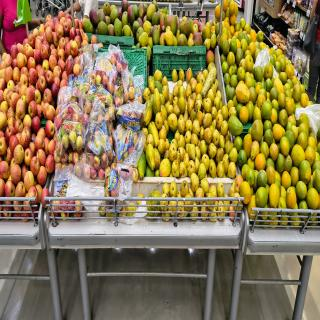fruit: (227, 115, 244, 135), (268, 180, 280, 208), (254, 186, 268, 208), (252, 118, 263, 141), (280, 135, 290, 157), (281, 170, 292, 190), (293, 145, 304, 164), (3, 180, 15, 197), (14, 146, 24, 164), (160, 160, 172, 174), (20, 128, 29, 146), (270, 142, 279, 160), (28, 186, 38, 202), (15, 182, 25, 198), (262, 102, 272, 118), (247, 168, 256, 185), (31, 156, 39, 175), (11, 165, 21, 180), (25, 172, 33, 189), (46, 155, 55, 170), (41, 189, 50, 203)
